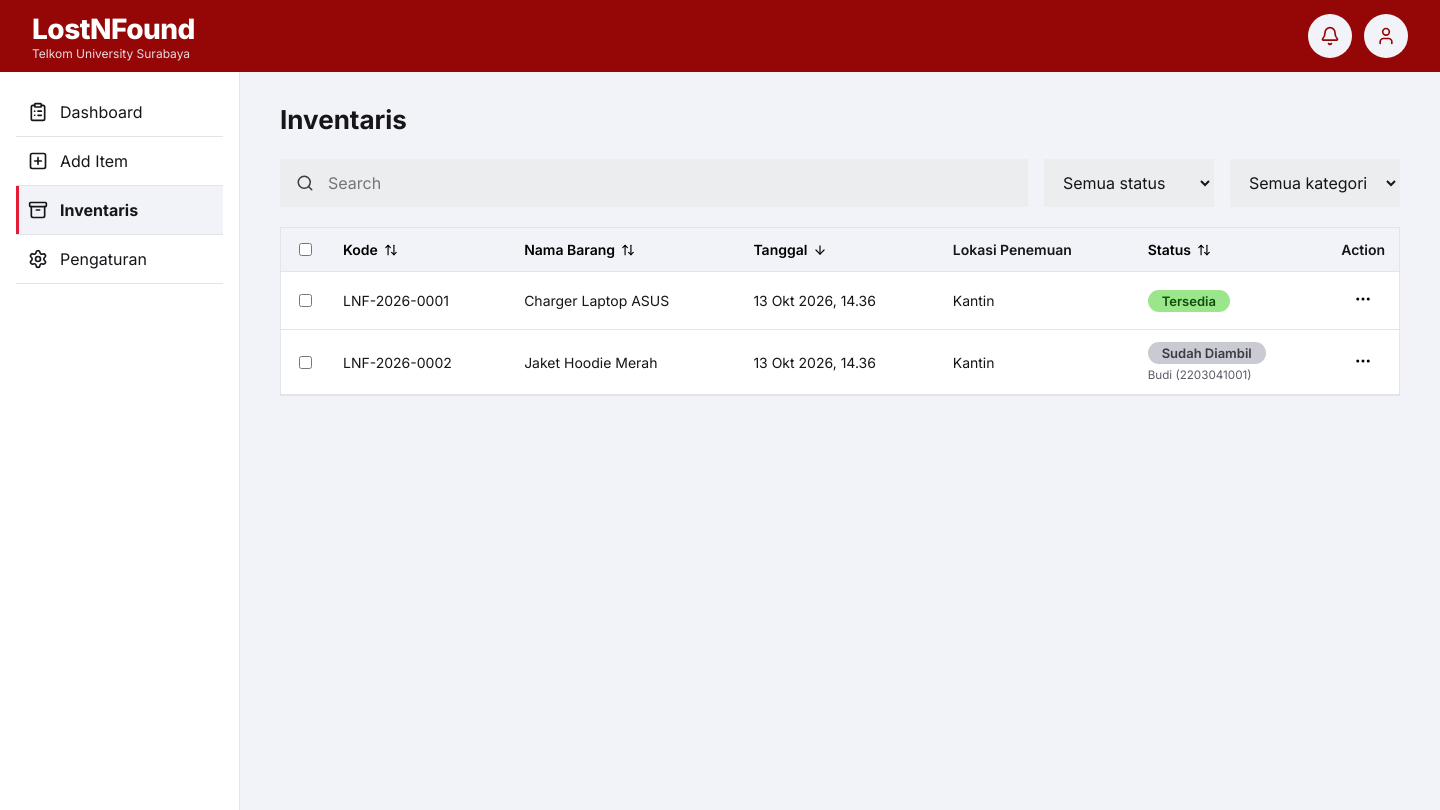
inventaris › menandai barang diambil lewat menu aksi
The image size is (1440, 810).
expect the text "Charger Laptop ASUS" is shown: met, box [510, 272, 739, 330]
Step 1. Click the button named "Aksi untuk Charger Laptop ASUS" → {"x": 1363, "y": 300}, box [1348, 284, 1378, 317]
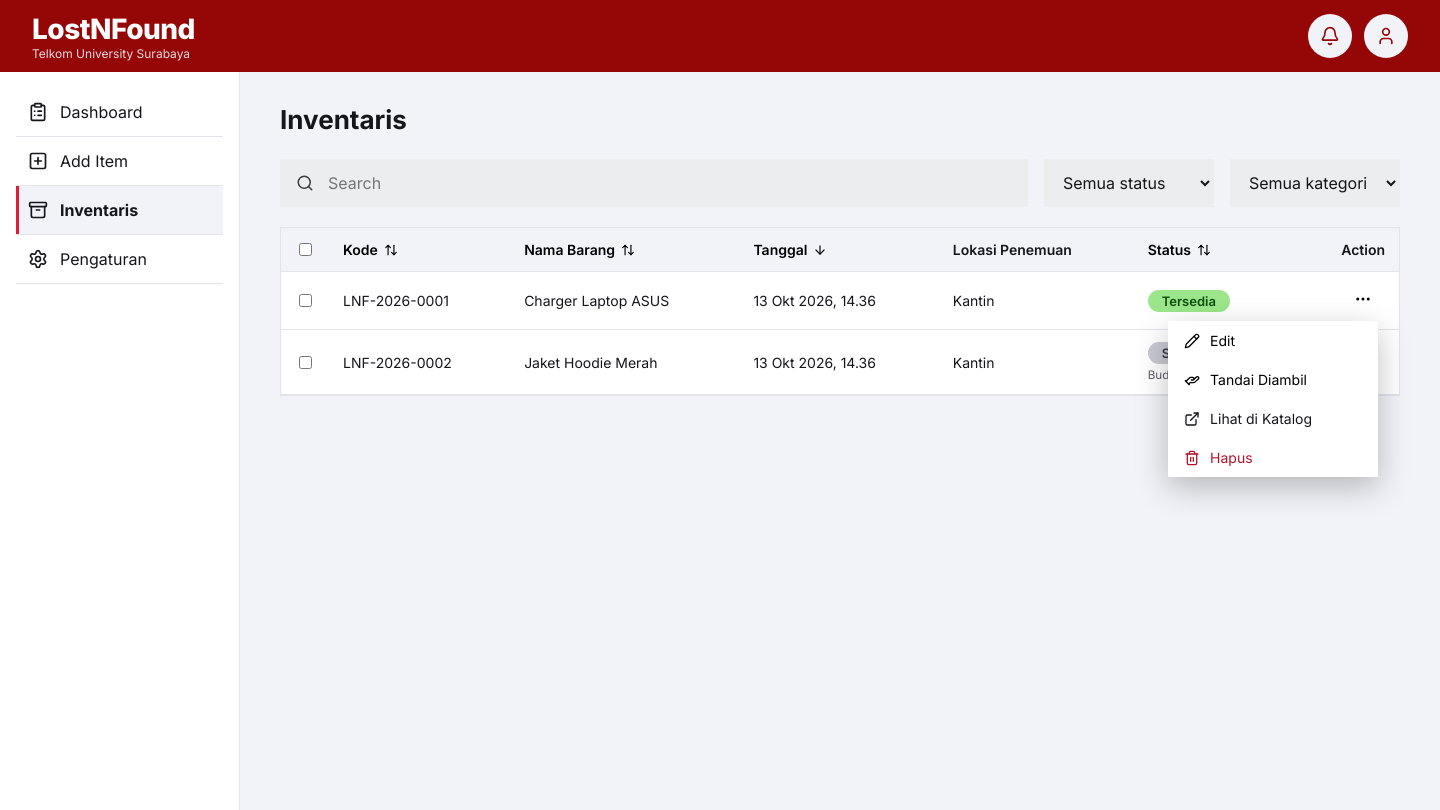
Step 2. Click the menu item "Tandai Diambil" → {"x": 1273, "y": 380}, box [1168, 360, 1378, 399]
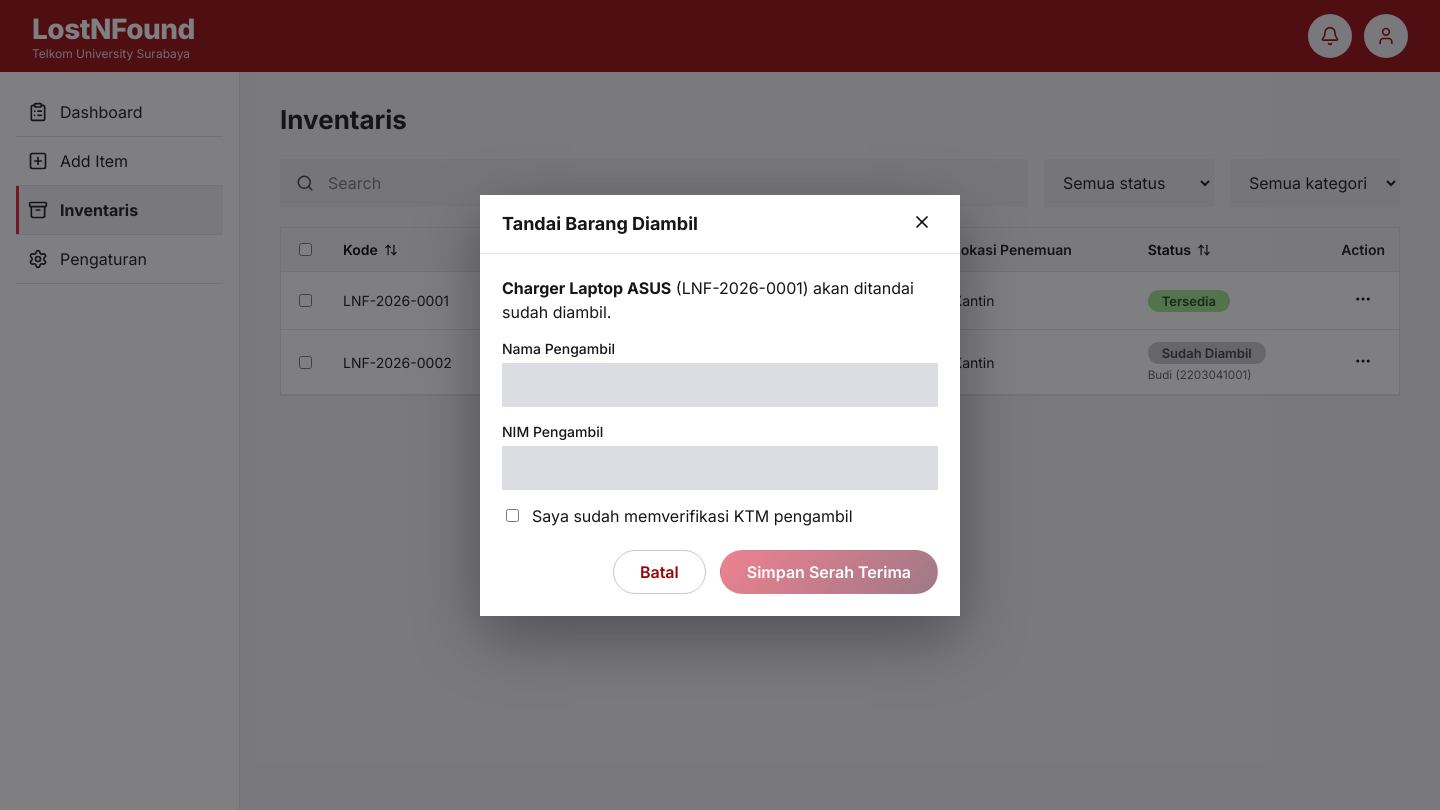
expect the button "Simpan Serah Terima" is disabled: met, box [720, 550, 938, 594]
Step 3. Type "Siti" into the field labelled "Nama Pengambil" → {"x": 720, "y": 384}, box [502, 362, 938, 406]
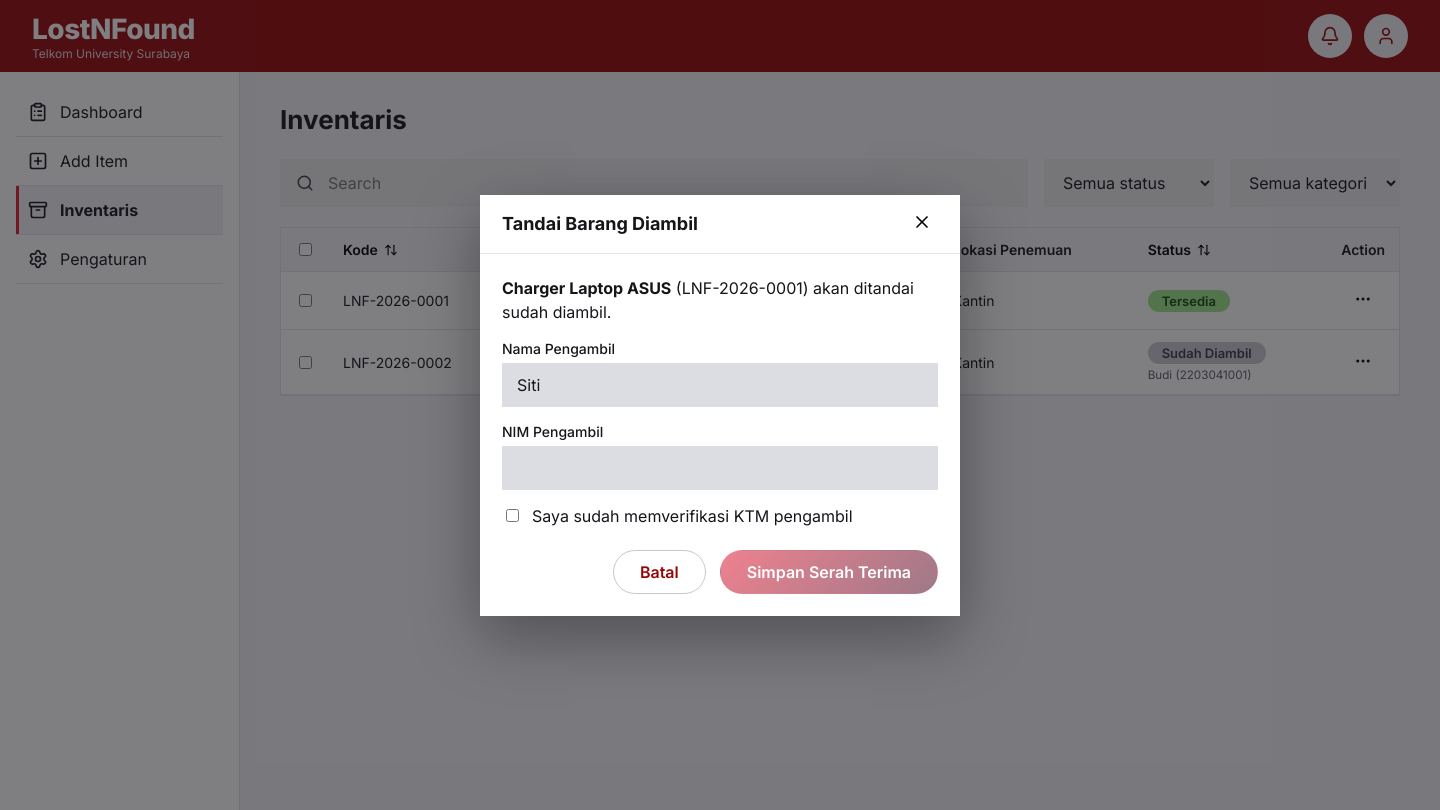
Step 4. Type "2203049999" into the field labelled "NIM Pengambil" → {"x": 720, "y": 468}, box [502, 446, 938, 490]
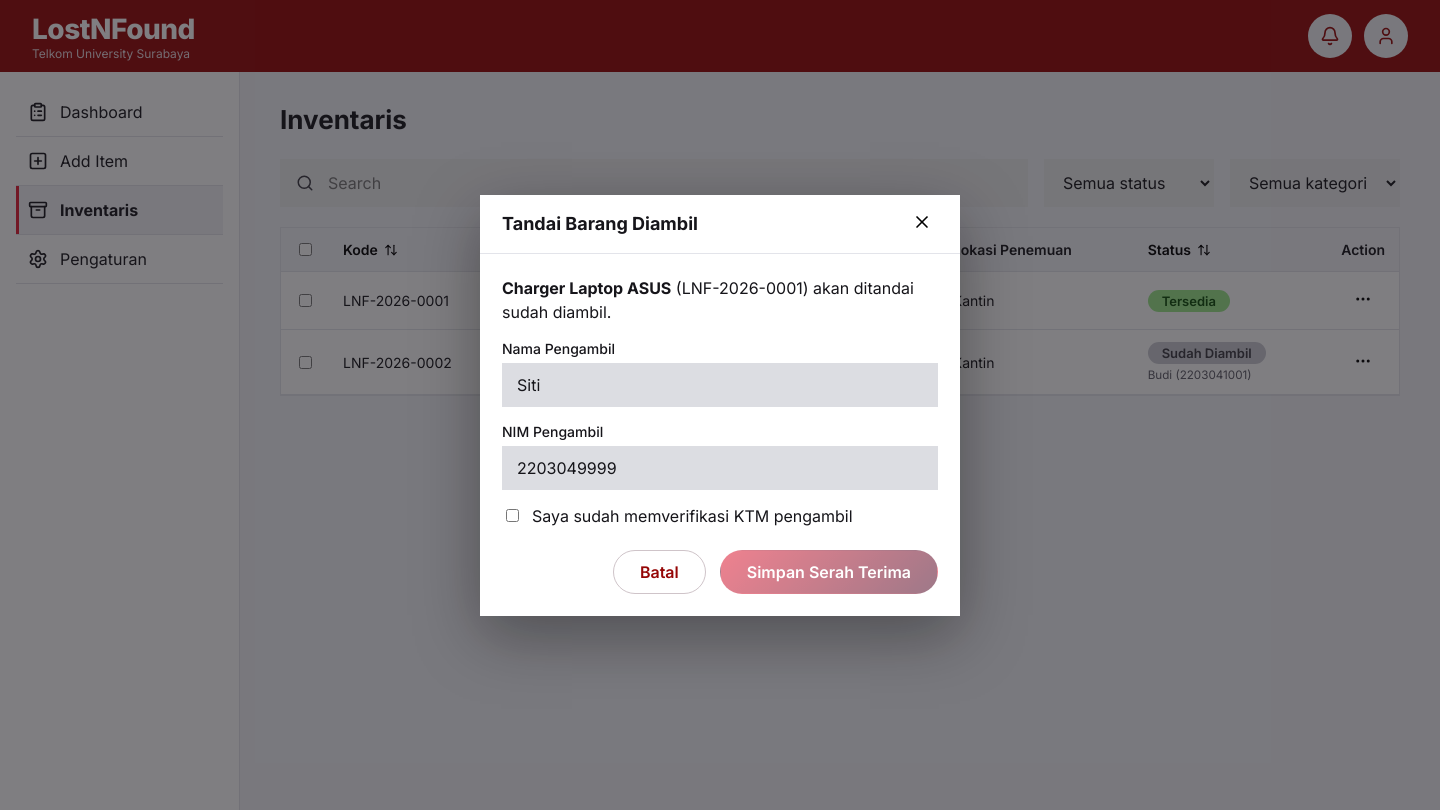
Step 5. Click the checkbox labelled "Saya sudah memverifikasi KTM pengambil" → {"x": 512, "y": 516}, box [506, 509, 519, 522]
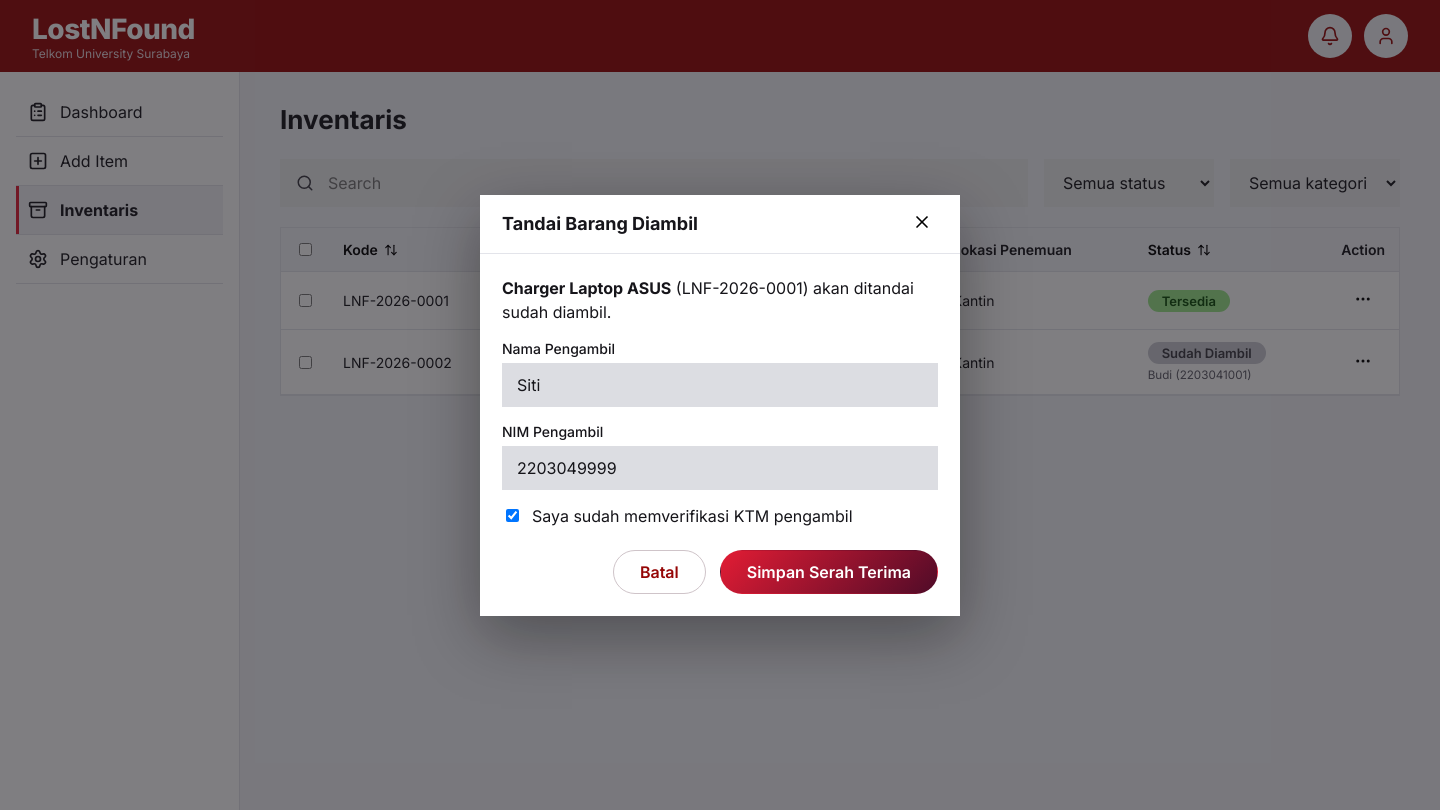
expect the button "Simpan Serah Terima" is enabled: met
Step 6. Click the button "Simpan Serah Terima" → {"x": 829, "y": 572}, box [720, 550, 938, 594]
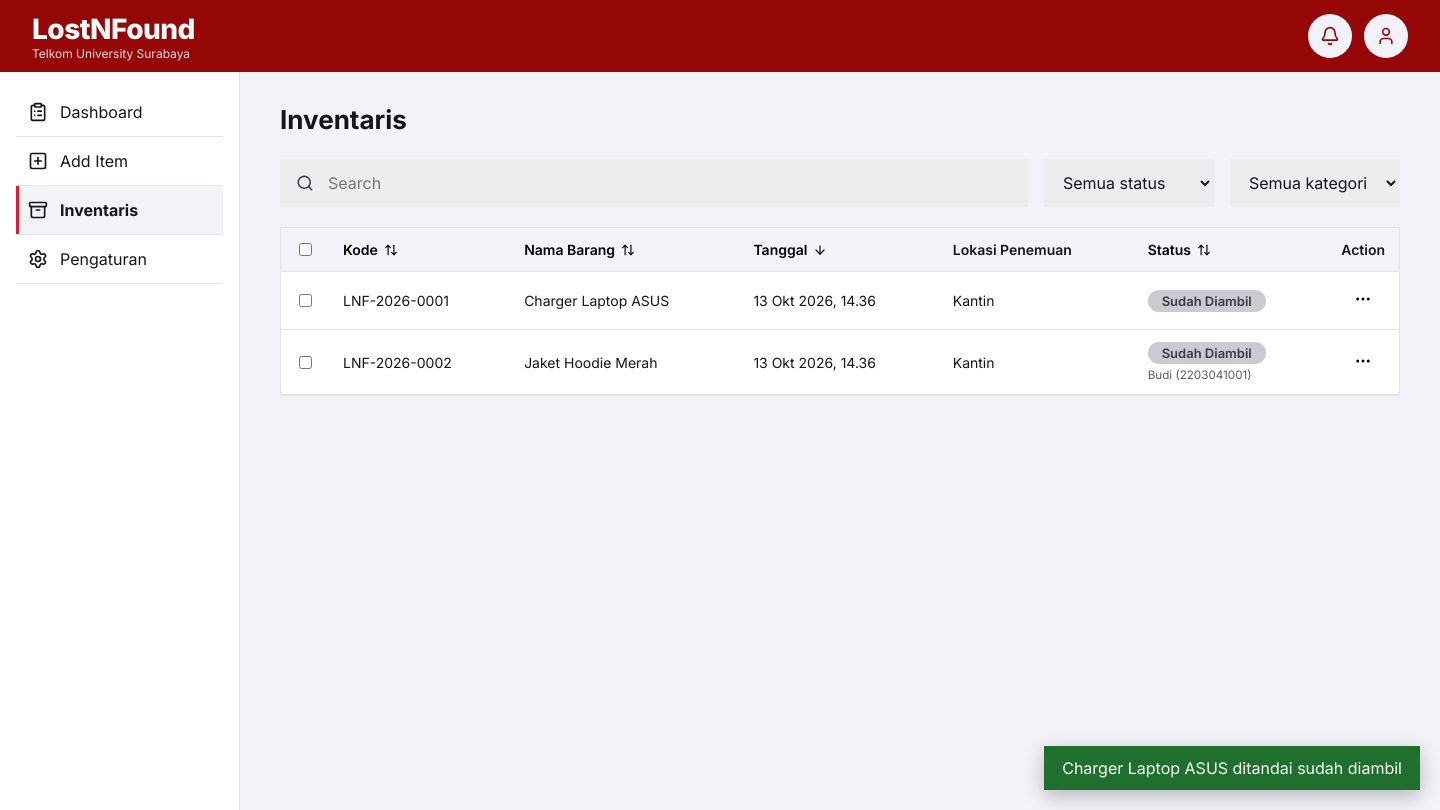
expect the text "Charger Laptop ASUS ditandai sudah diambil" is shown: met, box [1044, 746, 1420, 790]
